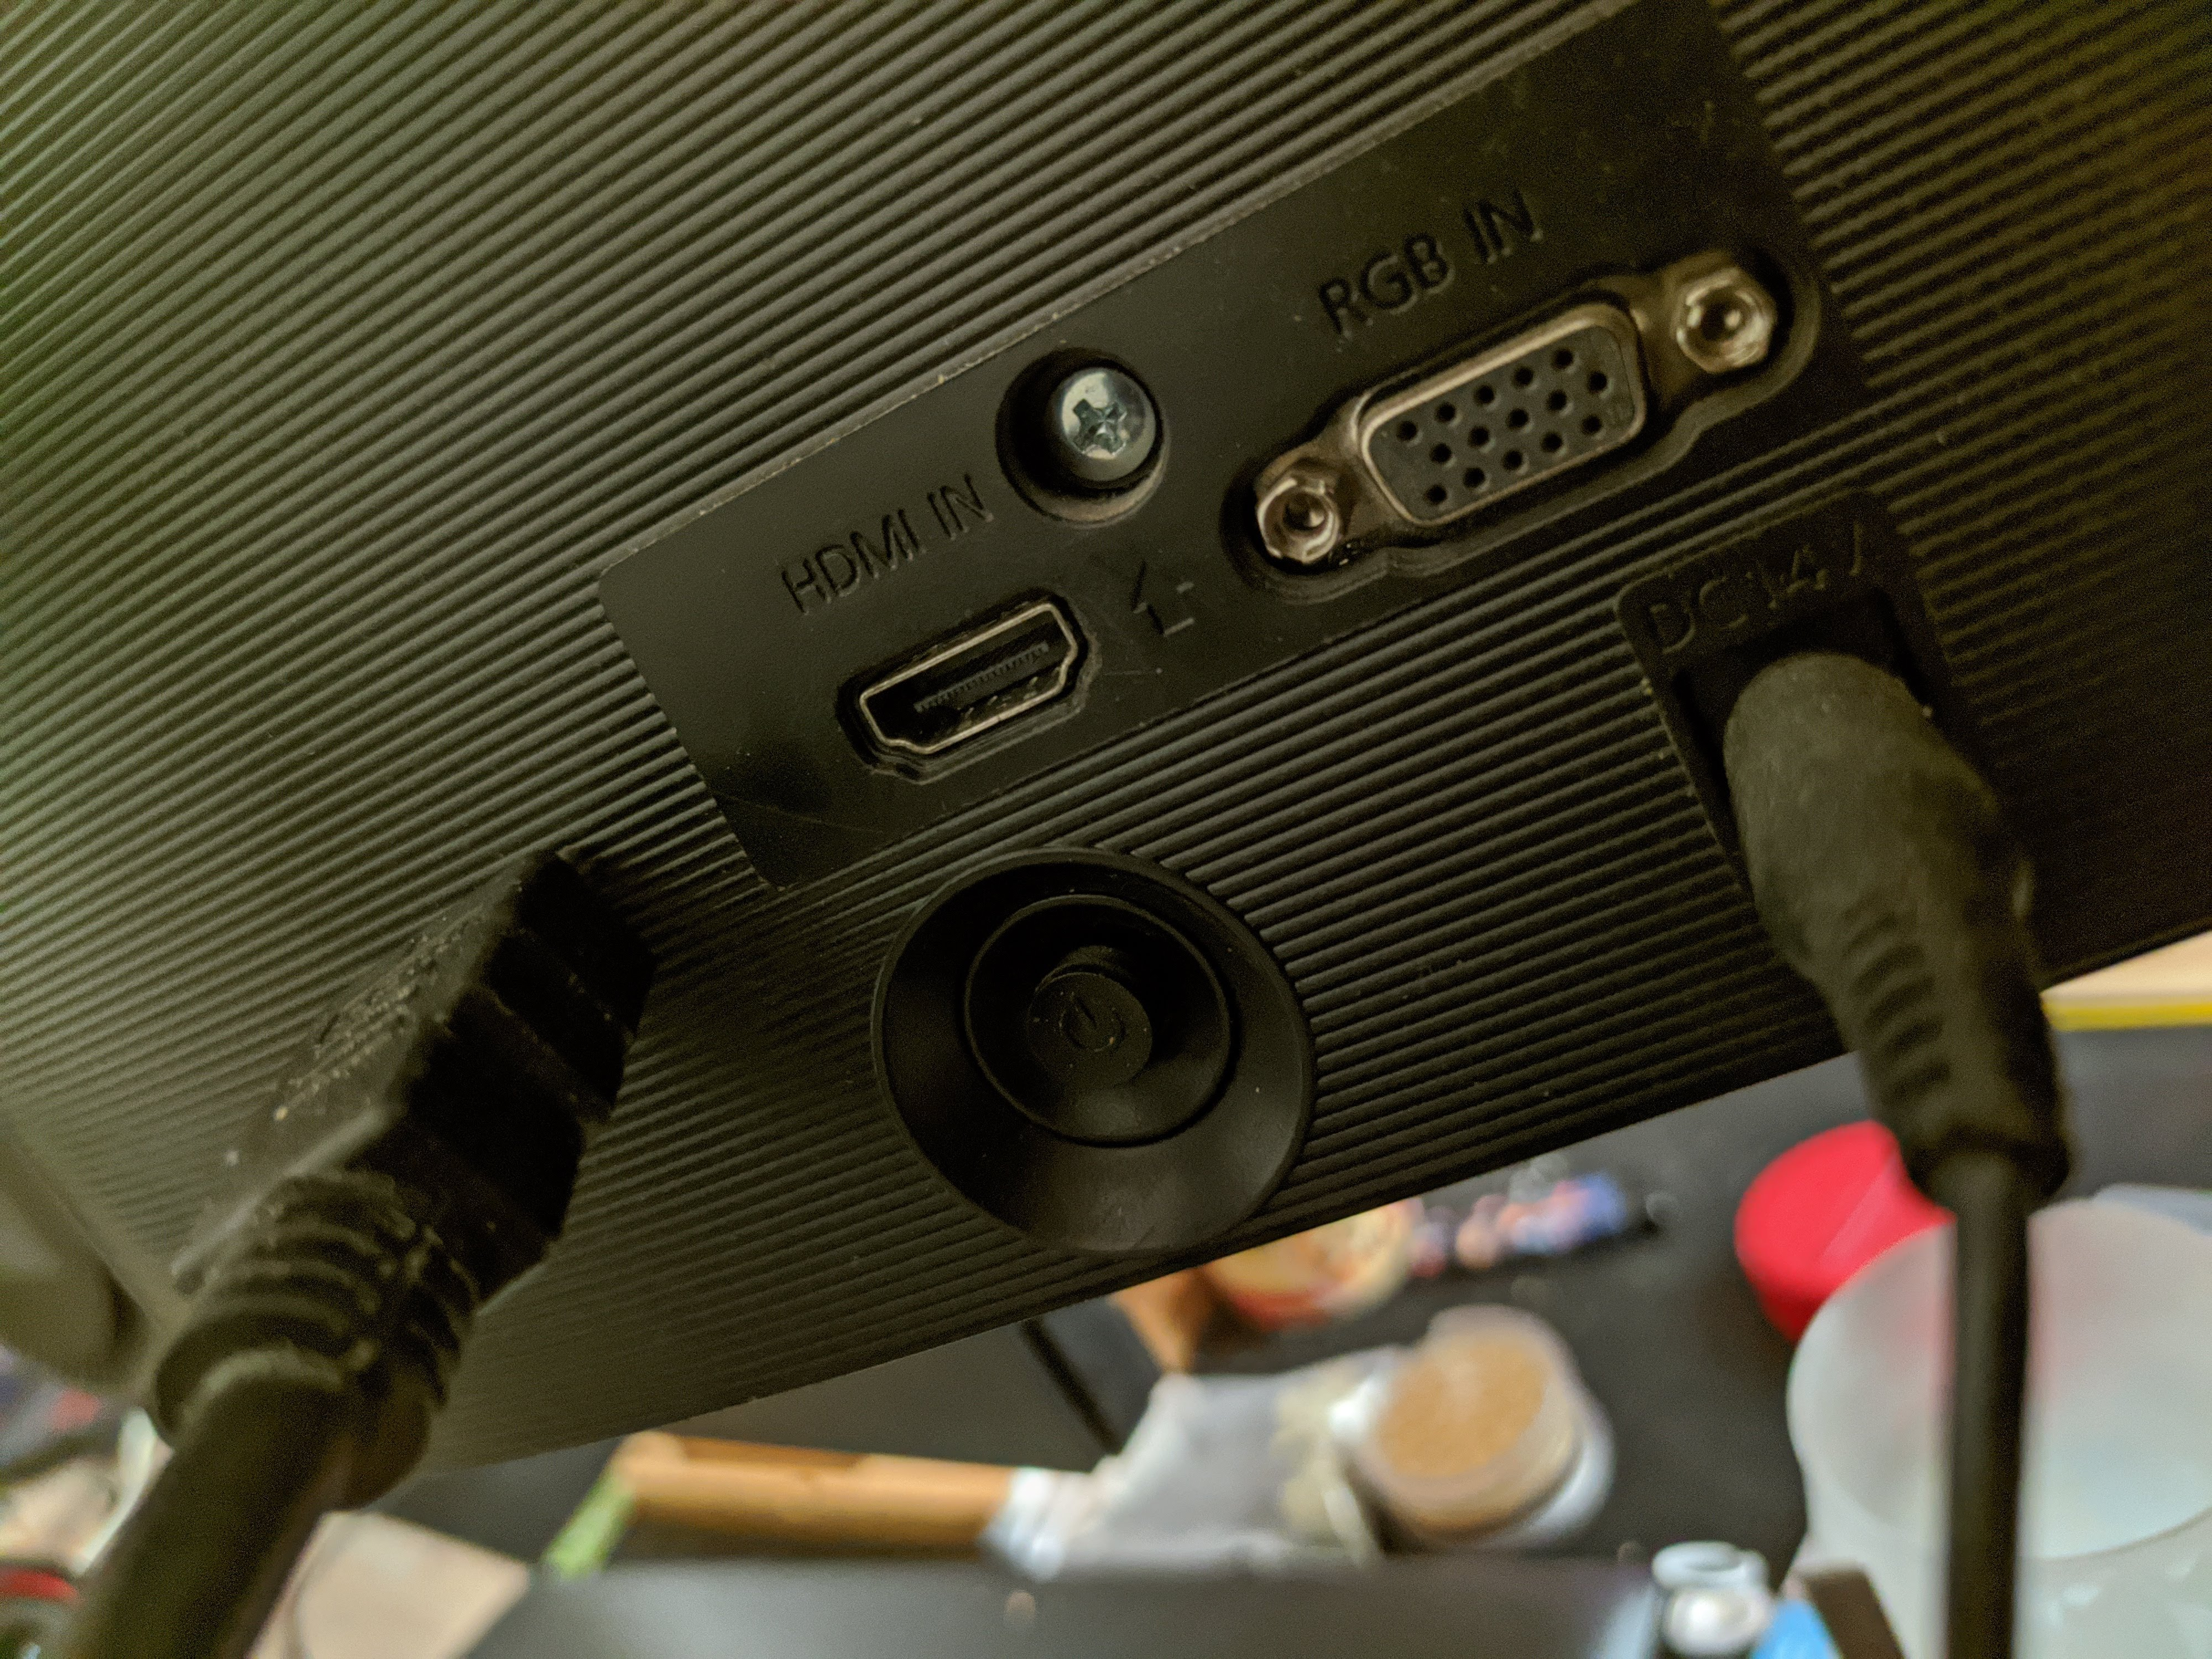VGA_in: (1224, 228, 1785, 579)
hdmi_in: (859, 584, 1083, 781)
